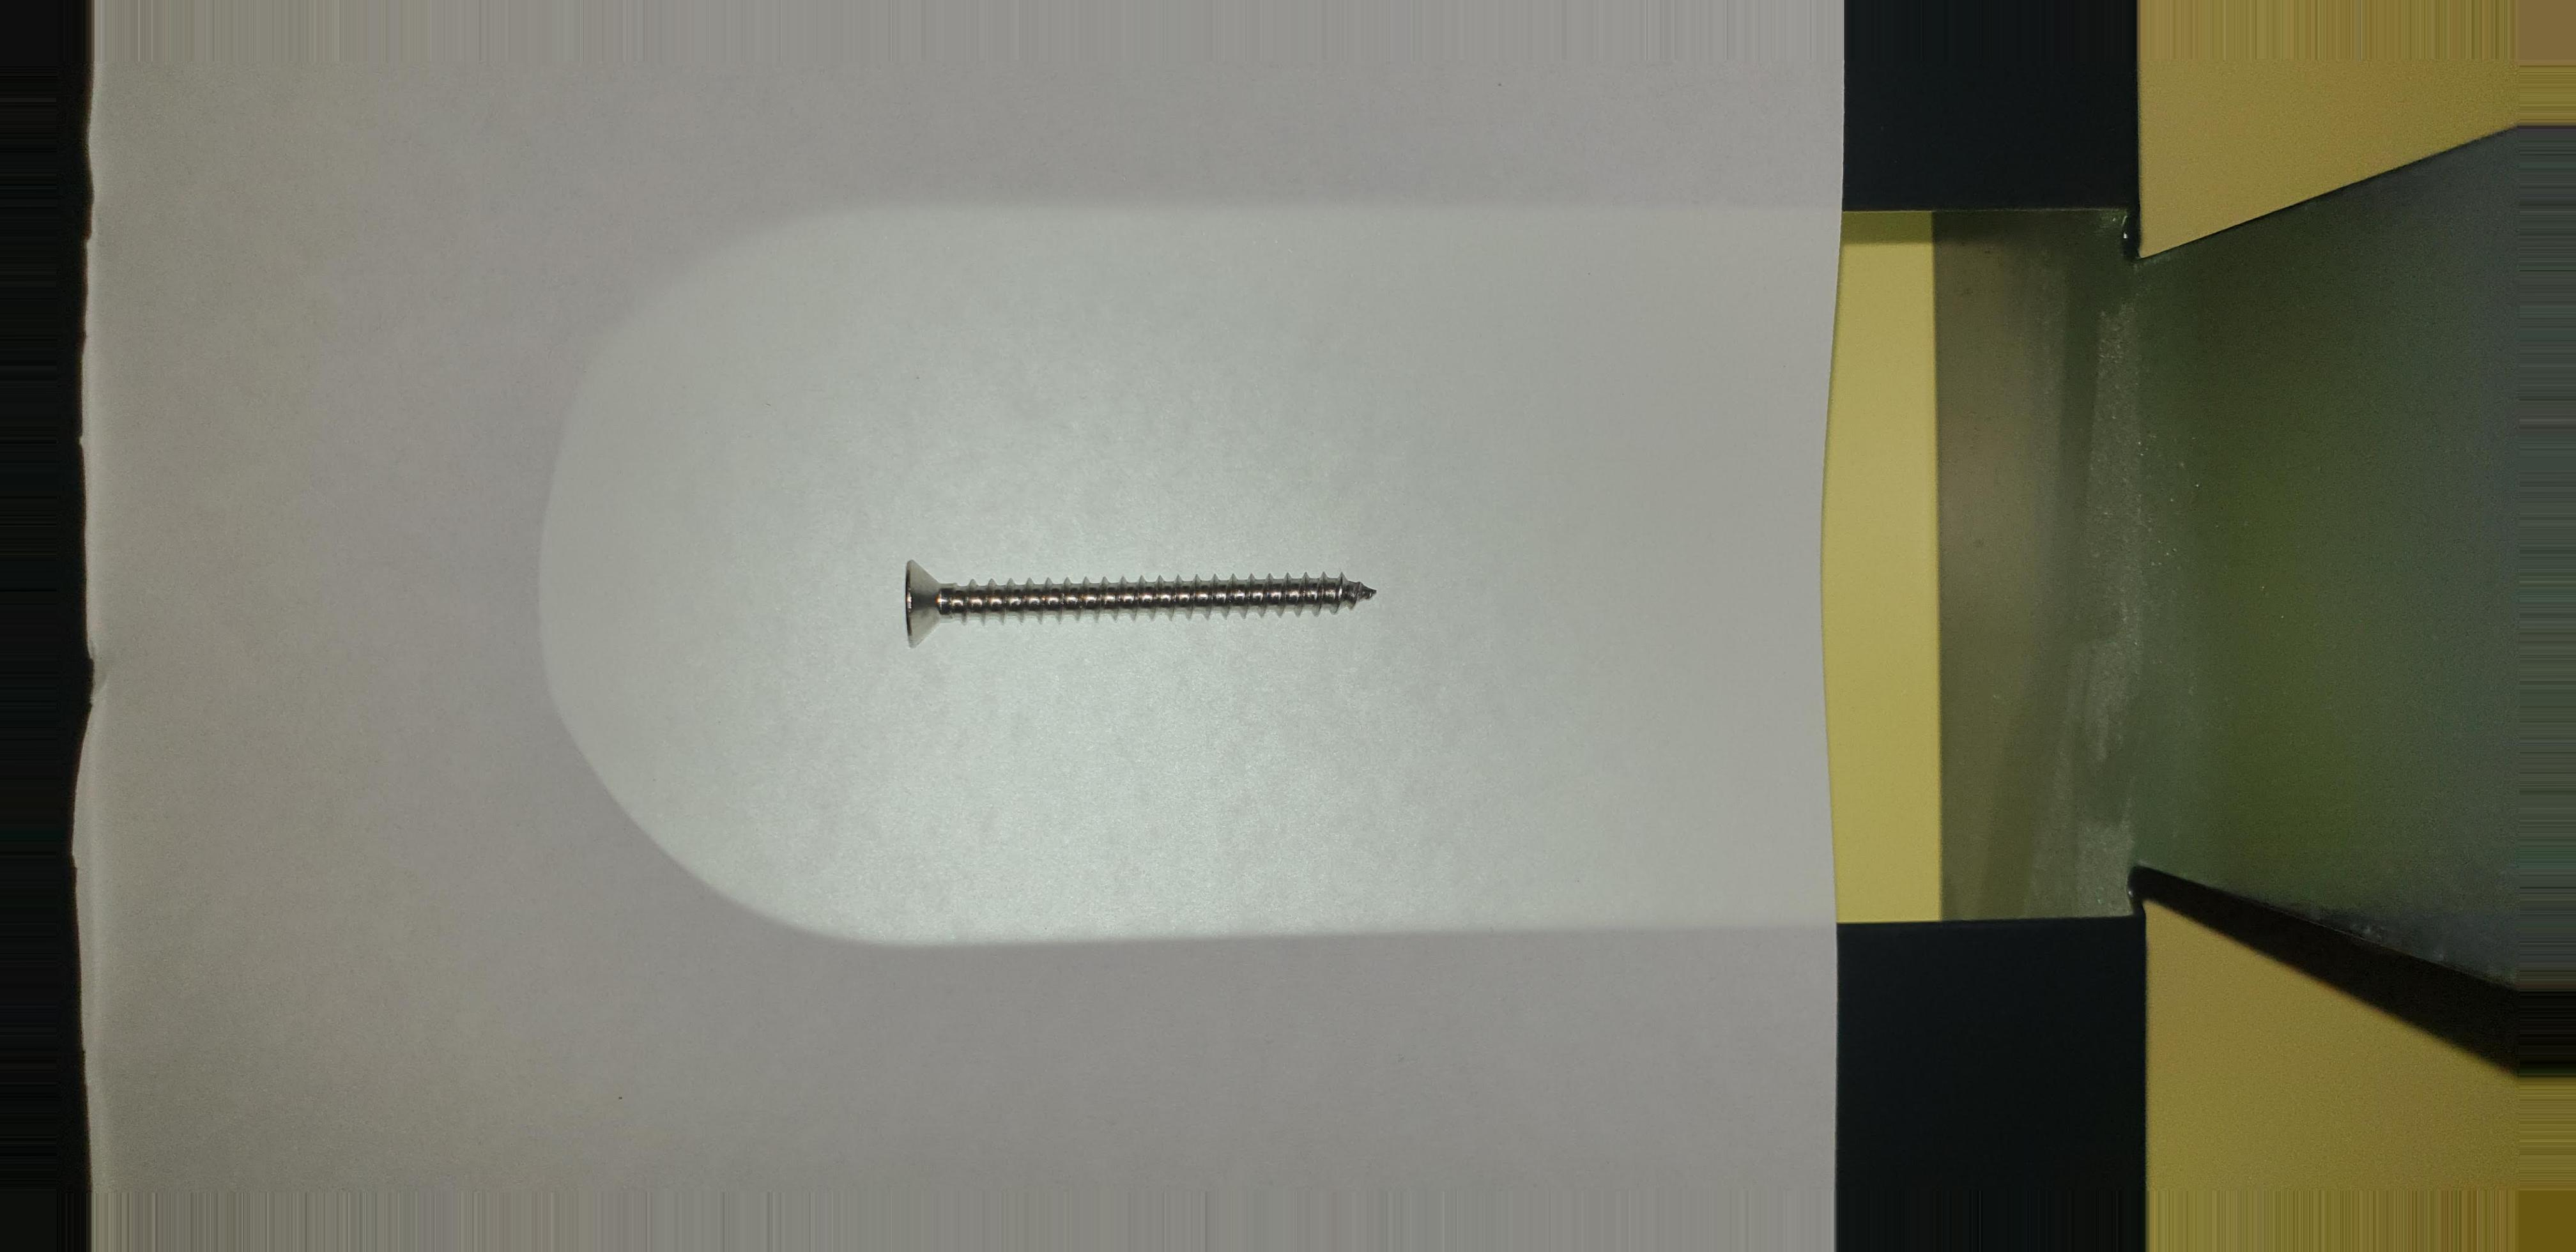fastener: (839, 483, 1433, 684)
